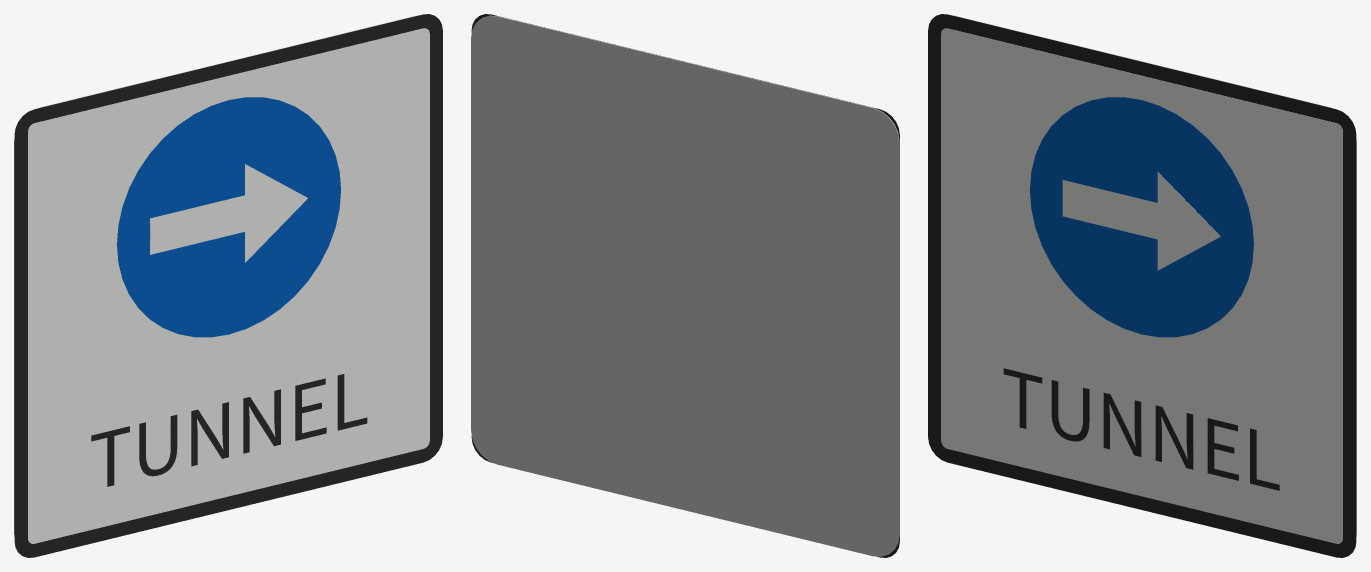
3 views of the same model, side by side, from view 1: azimuth 30°, elevation 25°; view 2: azimuth 150°, elevation 25°; view 3: azimuth 330°, elevation 25° (orthographic).
Parts seen in each view (by area): view 1: C117-B21d2_r01, C117-B21d2_d02, C117-B21d2_r00, C117-B21d2_p03, C117-B21d2_txt04, C117-B21d2_dos; view 2: C117-B21d2_dos, C117-B21d2_r00; view 3: C117-B21d2_r01, C117-B21d2_d02, C117-B21d2_r00, C117-B21d2_p03, C117-B21d2_txt04, C117-B21d2_dos.
Part boxes in pixels (x1,y1,x2,y2): C117-B21d2_r01: (28, 28, 429, 543); C117-B21d2_d02: (117, 97, 340, 337); C117-B21d2_r00: (14, 14, 442, 557); C117-B21d2_p03: (150, 164, 307, 262); C117-B21d2_txt04: (91, 374, 367, 486); C117-B21d2_dos: (14, 15, 416, 536); C117-B21d2_dos: (471, 15, 899, 556); C117-B21d2_r00: (471, 14, 899, 557); C117-B21d2_r01: (941, 28, 1342, 543); C117-B21d2_d02: (1030, 97, 1253, 337); C117-B21d2_r00: (928, 14, 1356, 557); C117-B21d2_p03: (1062, 172, 1220, 270); C117-B21d2_txt04: (1003, 368, 1279, 490); C117-B21d2_dos: (954, 15, 1356, 536).
Bounding box in the file's own units: 0.65 × 0.65 × 0.0033.
